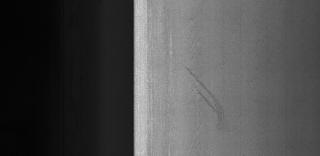water spot: (181, 61, 239, 137)
